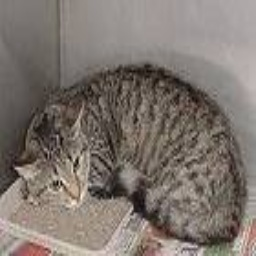cat: (12, 54, 246, 245)
